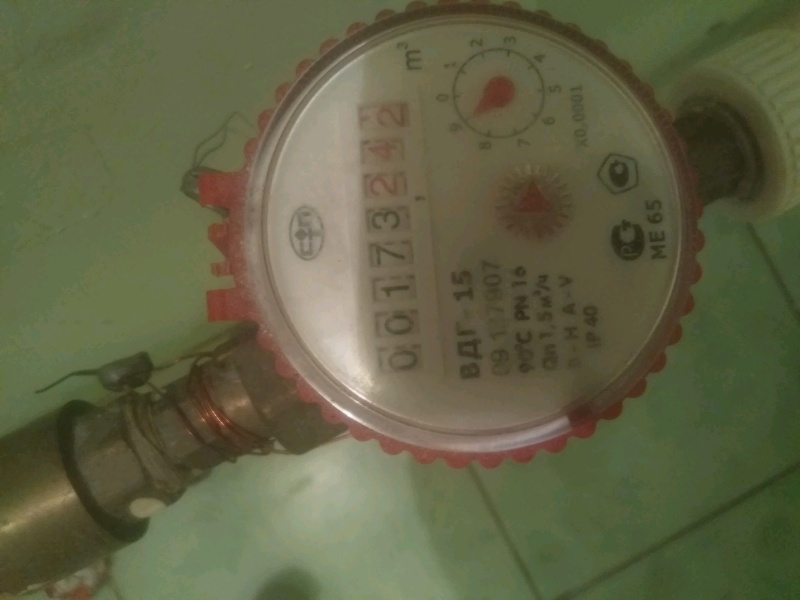dial: (332, 107, 436, 375)
